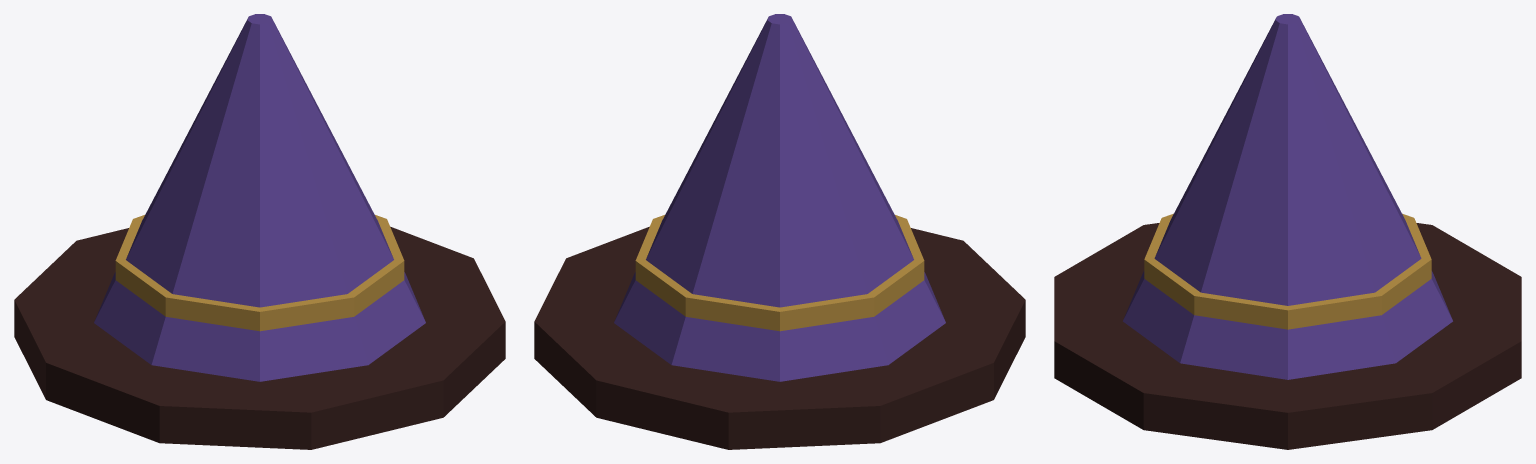
File: witch_hat.obj
3 renders of one model, left to right at view 1: azimuth 30°, elevation 25°; view 2: azimuth 150°, elevation 25°; view 3: azimuth 270°, elevation 25°, orthographic.
Visible parts, largest first — view 1: witch_hat; view 2: witch_hat; view 3: witch_hat.
Part boxes in pixels (x1,y1,x2,y2): witch_hat: [14, 14, 505, 449]; witch_hat: [534, 14, 1025, 449]; witch_hat: [1054, 14, 1521, 449].
Bounding box in the file's own units: 0.96 × 0.705 × 0.913.
